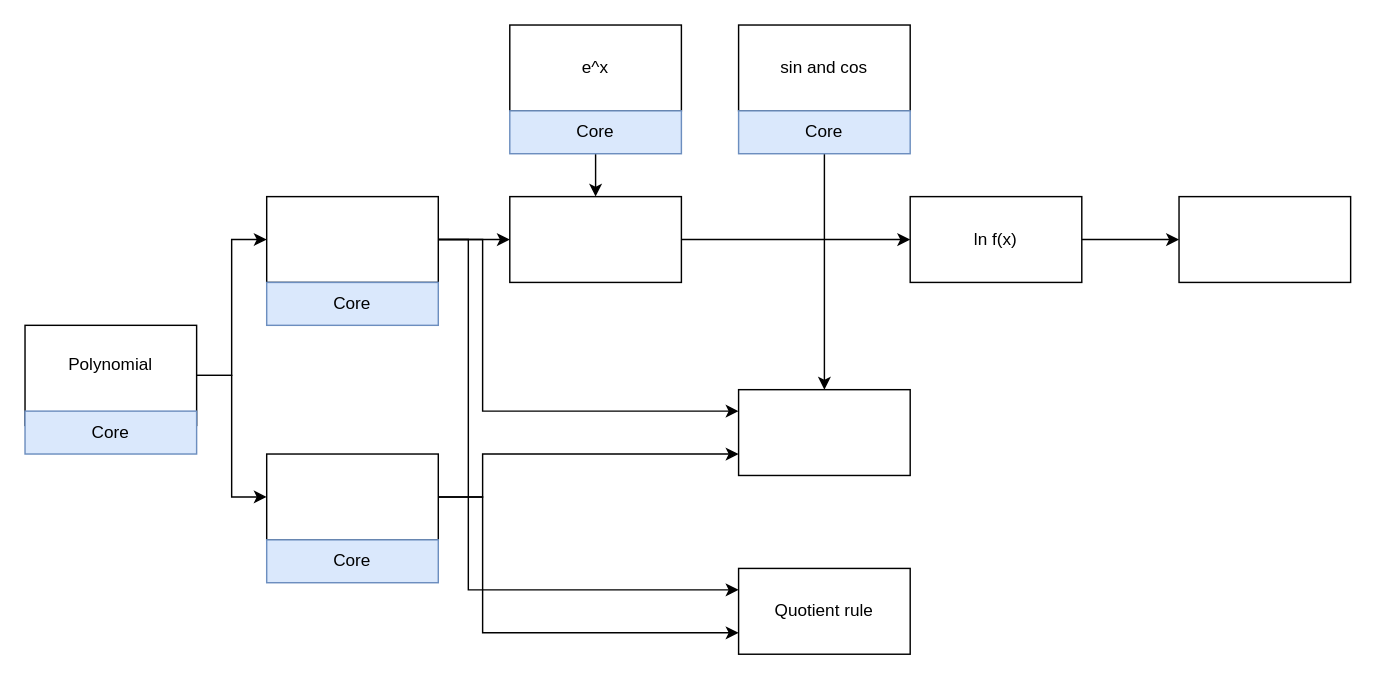
This 1376x679 diagram has some shape labels left out. Here are the shapes that lost their labels. From the top down, the centre of each, then its label:
At (x=351, y=238): "Chain rule".
At (x=594, y=238): "e^f(x)".
At (x=1264, y=238): "a^f(x)".
At (x=823, y=431): "All trig functions".
At (x=351, y=496): "Product rule".
